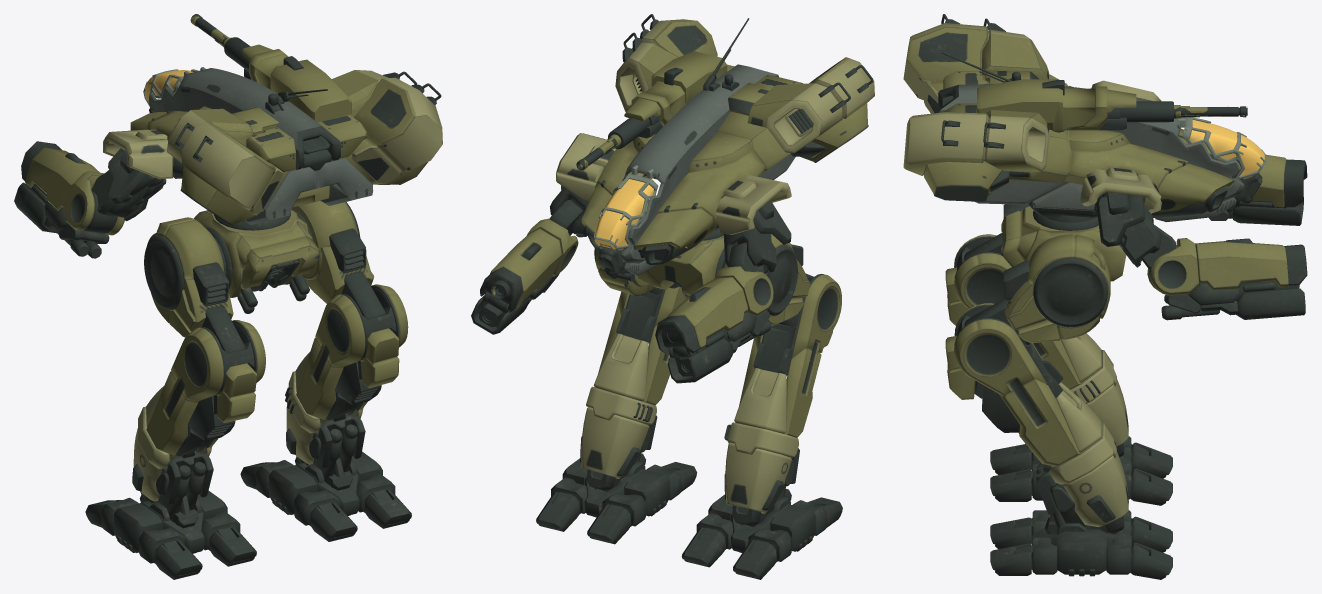
The model's file is Marauder.glb.
3 views of the same model, side by side, from view 1: azimuth 30°, elevation 25°; view 2: azimuth 150°, elevation 25°; view 3: azimuth 270°, elevation 25° (orthographic). The views are drawn at different scales.
Visible parts, largest first — view 1: CenterTorso_CoreAndPelvis, LeftLeg_Shin, RightLeg_Shin, LeftTorso_TorsoShell, RightTorso_TorsoShell, LeftLeg_Thigh, RightLeg_Foot, LeftLeg_Foot, LeftArm_ForearmAndFist, RightLeg_Thigh, LeftArm_ShoulderAndUpperarm, RightTorso_Weapon0; view 2: LeftTorso_TorsoShell, LeftLeg_Shin, CenterTorso_CoreAndPelvis, RightLeg_Shin, LeftArm_ForearmAndFist, RightLeg_Foot, LeftLeg_Foot, RightTorso_TorsoShell, RightArm_ForearmAndFist, LeftArm_ShoulderAndUpperarm, RightTorso_Weapon0, RightArm_ShoulderAndUpperarm (+4 smaller); view 3: RightTorso_TorsoShell, RightLeg_Shin, CenterTorso_CoreAndPelvis, RightArm_ForearmAndFist, RightLeg_Thigh, RightLeg_Foot, LeftLeg_Shin, RightTorso_Weapon0, LeftTorso_TorsoShell, RightArm_ShoulderAndUpperarm, LeftLeg_Foot, LeftArm_ForearmAndFist (+4 smaller).
Boxes of the visible parts, x1=… form: CenterTorso_CoreAndPelvis: x1=148, y1=68, x2=373, y2=313; LeftLeg_Shin: x1=132, y1=320, x2=265, y2=528; RightLeg_Shin: x1=285, y1=284, x2=408, y2=490; LeftTorso_TorsoShell: x1=130, y1=106, x2=288, y2=225; RightTorso_TorsoShell: x1=332, y1=70, x2=442, y2=184; LeftLeg_Thigh: x1=144, y1=217, x2=245, y2=352; RightLeg_Foot: x1=240, y1=451, x2=411, y2=541; LeftLeg_Foot: x1=85, y1=490, x2=256, y2=579; LeftArm_ForearmAndFist: x1=14, y1=141, x2=124, y2=258; RightLeg_Thigh: x1=292, y1=200, x2=385, y2=318; LeftArm_ShoulderAndUpperarm: x1=91, y1=129, x2=183, y2=221; RightTorso_Weapon0: x1=190, y1=14, x2=351, y2=122; LeftTorso_TorsoShell: x1=634, y1=57, x2=874, y2=265; LeftLeg_Shin: x1=724, y1=274, x2=841, y2=527; CenterTorso_CoreAndPelvis: x1=598, y1=18, x2=802, y2=295; RightLeg_Shin: x1=580, y1=286, x2=689, y2=491; LeftArm_ForearmAndFist: x1=655, y1=266, x2=773, y2=383; RightLeg_Foot: x1=536, y1=453, x2=697, y2=544; LeftLeg_Foot: x1=681, y1=489, x2=842, y2=579; RightTorso_TorsoShell: x1=581, y1=14, x2=717, y2=251; RightArm_ForearmAndFist: x1=471, y1=218, x2=578, y2=334; LeftArm_ShoulderAndUpperarm: x1=716, y1=175, x2=791, y2=273; RightTorso_Weapon0: x1=576, y1=51, x2=727, y2=170; RightArm_ShoulderAndUpperarm: x1=549, y1=133, x2=644, y2=237; RightTorso_TorsoShell: x1=903, y1=110, x2=1234, y2=217; RightLeg_Shin: x1=945, y1=303, x2=1128, y2=534; CenterTorso_CoreAndPelvis: x1=938, y1=52, x2=1262, y2=281; RightArm_ForearmAndFist: x1=1147, y1=238, x2=1307, y2=320; RightLeg_Thigh: x1=964, y1=234, x2=1110, y2=344; RightLeg_Foot: x1=990, y1=510, x2=1172, y2=579; LeftLeg_Shin: x1=945, y1=234, x2=1128, y2=457; RightTorso_Weapon0: x1=977, y1=79, x2=1247, y2=132; LeftTorso_TorsoShell: x1=903, y1=14, x2=1226, y2=163; RightArm_ShoulderAndUpperarm: x1=1080, y1=167, x2=1176, y2=269; LeftLeg_Foot: x1=990, y1=436, x2=1172, y2=505; LeftArm_ForearmAndFist: x1=1227, y1=154, x2=1307, y2=225.
Bounding box in the file's own units: 1.51 × 2.71 × 2.08.
Materials: 4 (2 with a texture image).
